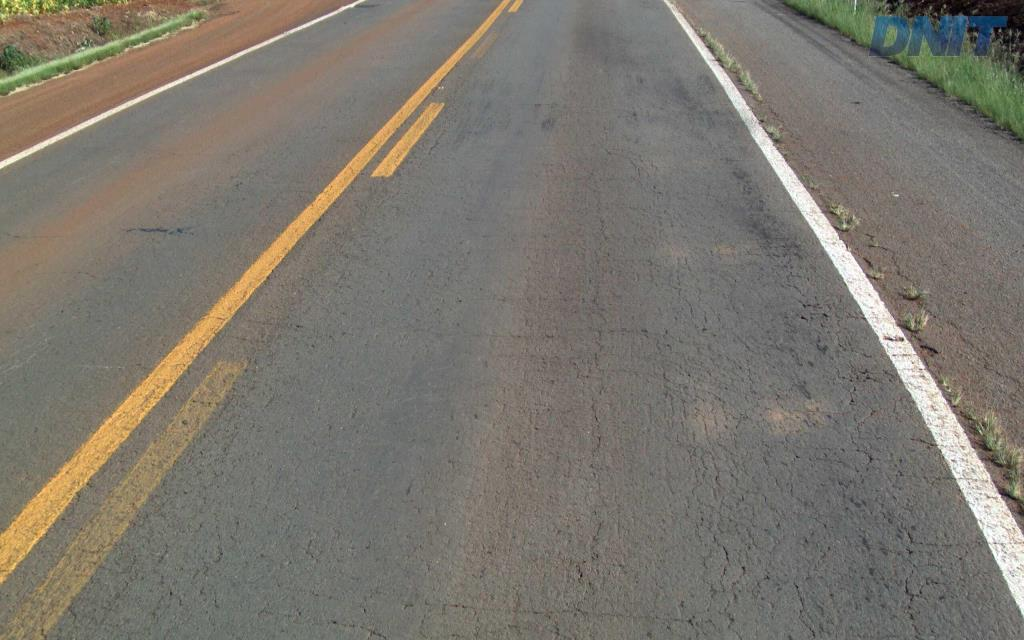crack: (901, 569, 958, 621)
